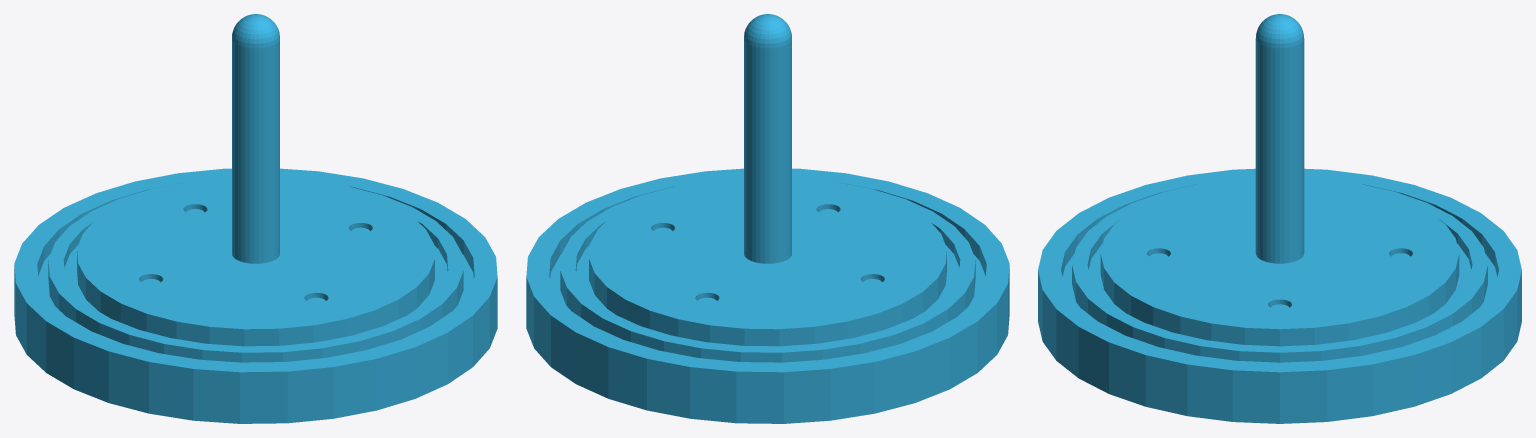
File: puck2.glb
The picture shows the model from 3 angles, left to right: view 1: azimuth 30°, elevation 25°; view 2: azimuth 150°, elevation 25°; view 3: azimuth 270°, elevation 25°; orthographic projection.
Parts seen in each view (by area): view 1: puck; view 2: puck; view 3: puck.
Boxes of the visible parts, bbox=[...] form: puck: bbox=[14, 14, 497, 423]; puck: bbox=[526, 14, 1009, 423]; puck: bbox=[1038, 14, 1521, 423].
Bounding box in the file's own units: 2 × 1.39 × 2.
